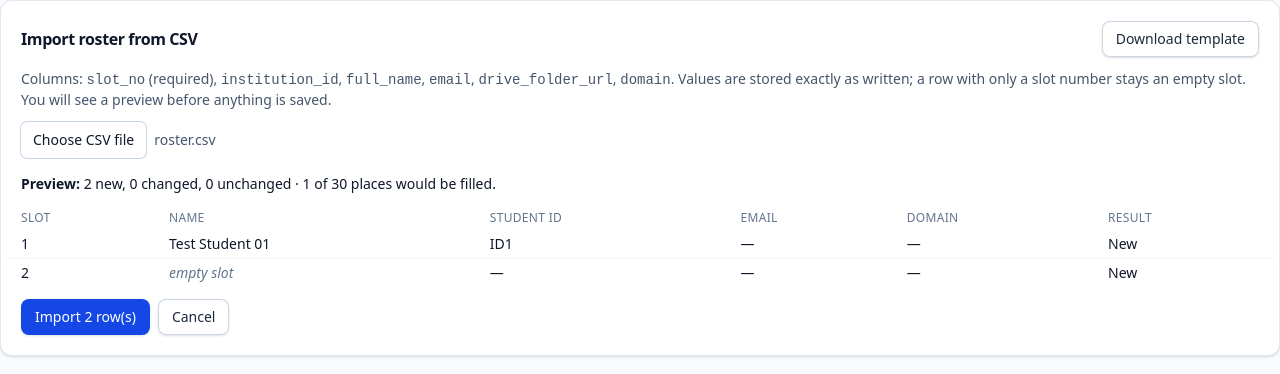
it: RosterImport › previews first, then imports only after confirmation
Earlier steps of the test are not shown.
Expected: the text "Preview:" is shown, [21,174,80,193]
Expected: the text "empty slot" is shown, [169,263,233,282]
Step 1. Click the button "Import 2 row(s)" → point(85, 317), box [21,299,150,335]
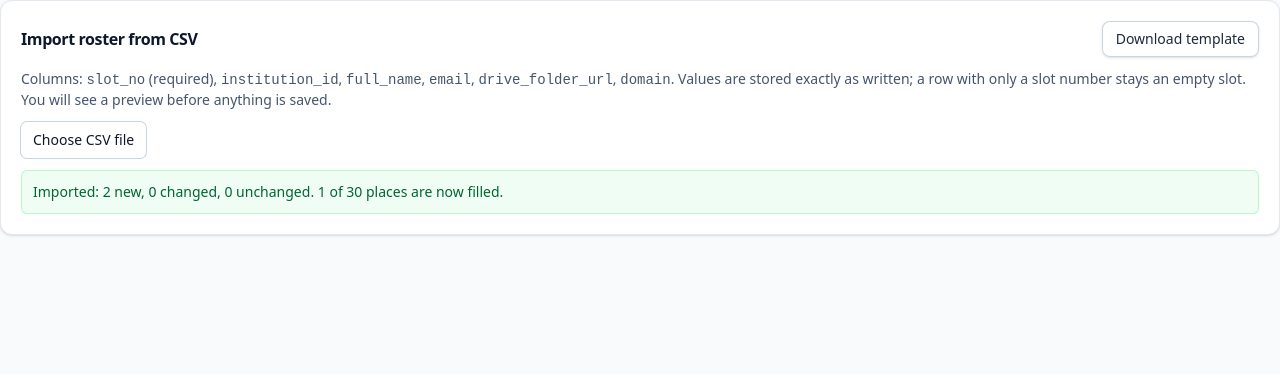
Now the text "Imported: 2 new, 0 changed, 0 unchanged. 1 of 30 places are now filled." is shown, box [21,170,1259,214]
